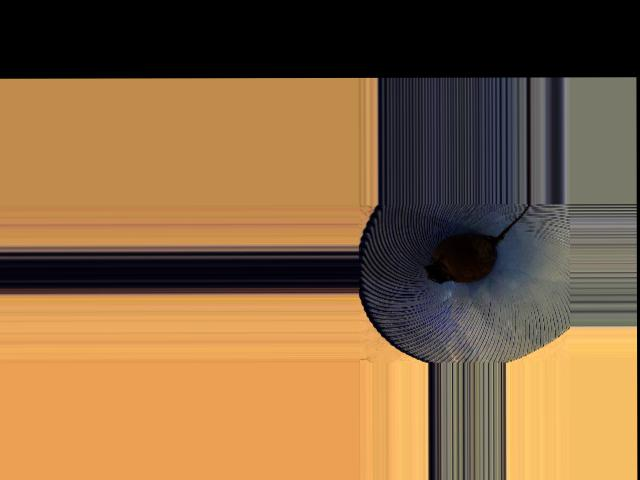beet: (424, 202, 529, 282)
